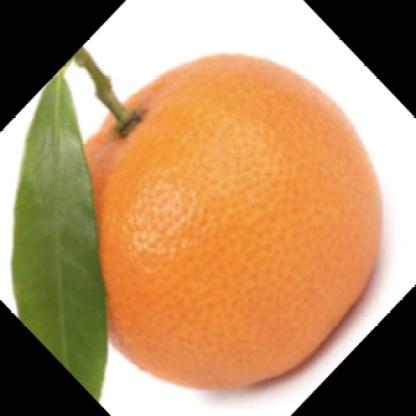fresh: (54, 55, 379, 384)
